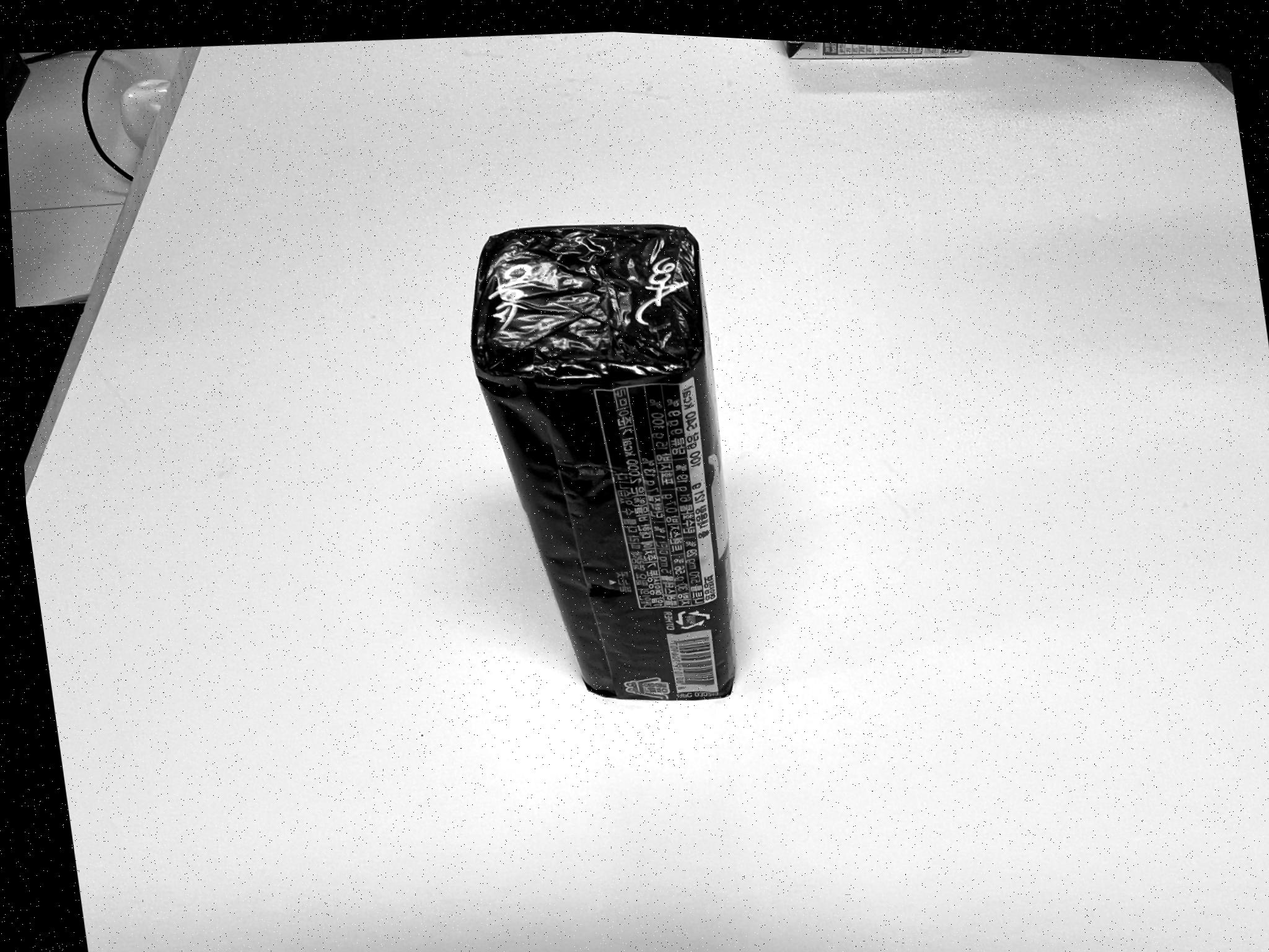cracker_ace: (472, 230, 737, 698)
